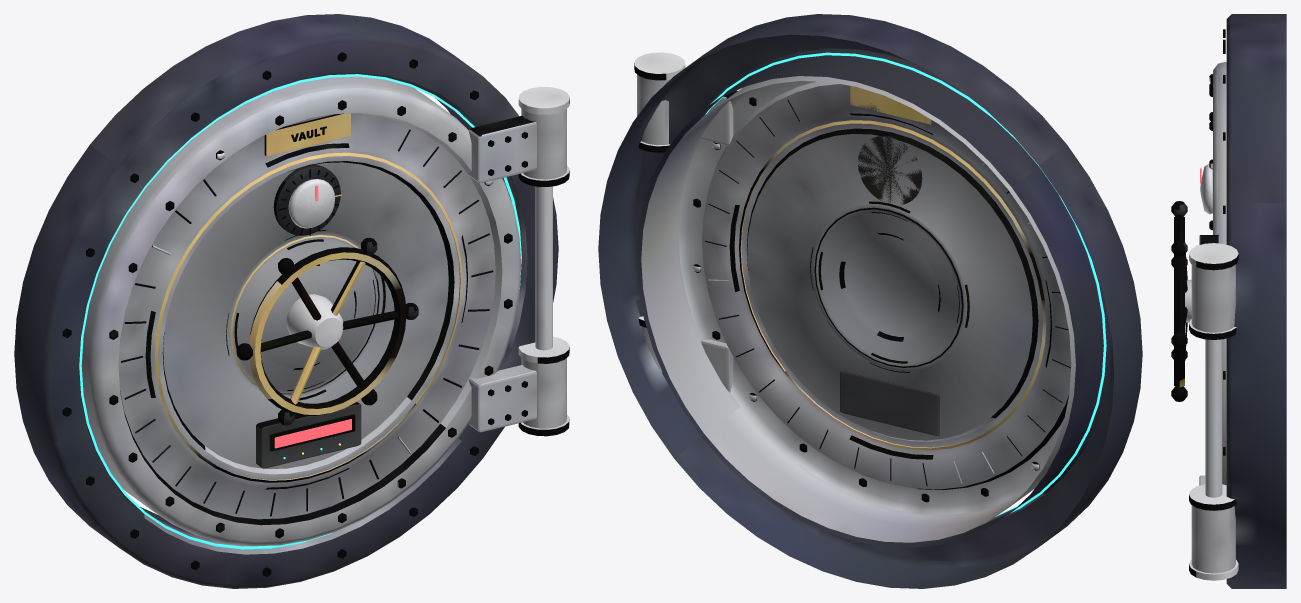
File: vault_door.glb
3 views of the same model, side by side, from view 1: azimuth 30°, elevation 25°; view 2: azimuth 150°, elevation 25°; view 3: azimuth 270°, elevation 25° (orthographic). The views are drawn at different scales.
Parts seen in each view (by area): view 1: body, wheel_mesh, dial_mesh, lock_light; view 2: body; view 3: body, wheel_mesh, dial_mesh.
Part boxes in pixels (x1,y1,x2,y2): body: (14, 14, 569, 588); wheel_mesh: (236, 237, 418, 425); dial_mesh: (288, 179, 335, 228); lock_light: (274, 419, 351, 448); body: (598, 14, 1142, 588); body: (1189, 14, 1286, 588); wheel_mesh: (1171, 201, 1191, 401); dial_mesh: (1200, 164, 1212, 214).
Bounding box in the file's own units: 6.72 × 6.72 × 1.35.
4 materials, 1 textured.
